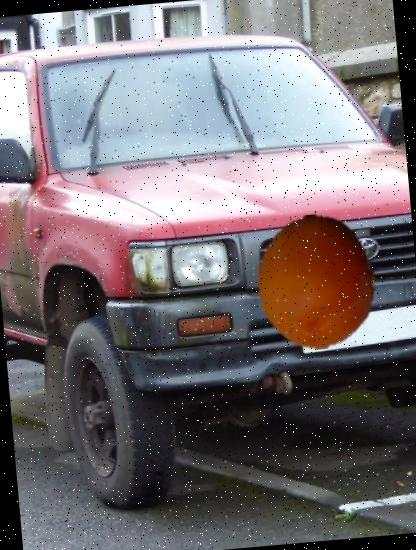Apricot: (244, 209, 390, 355)
